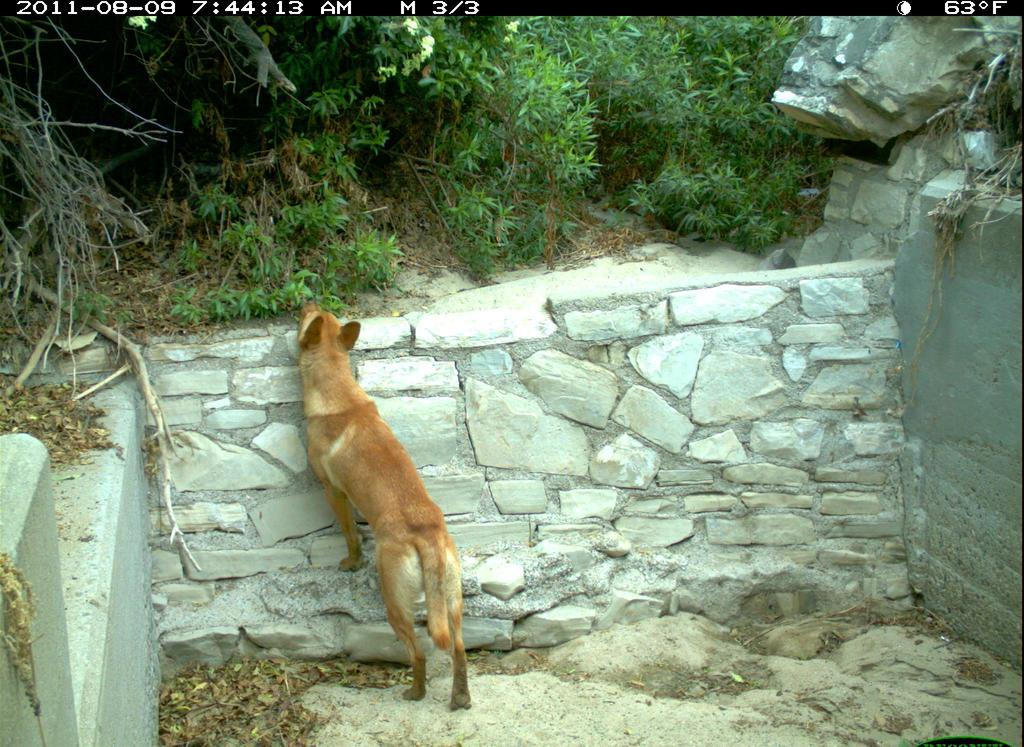dog: (287, 296, 477, 717)
